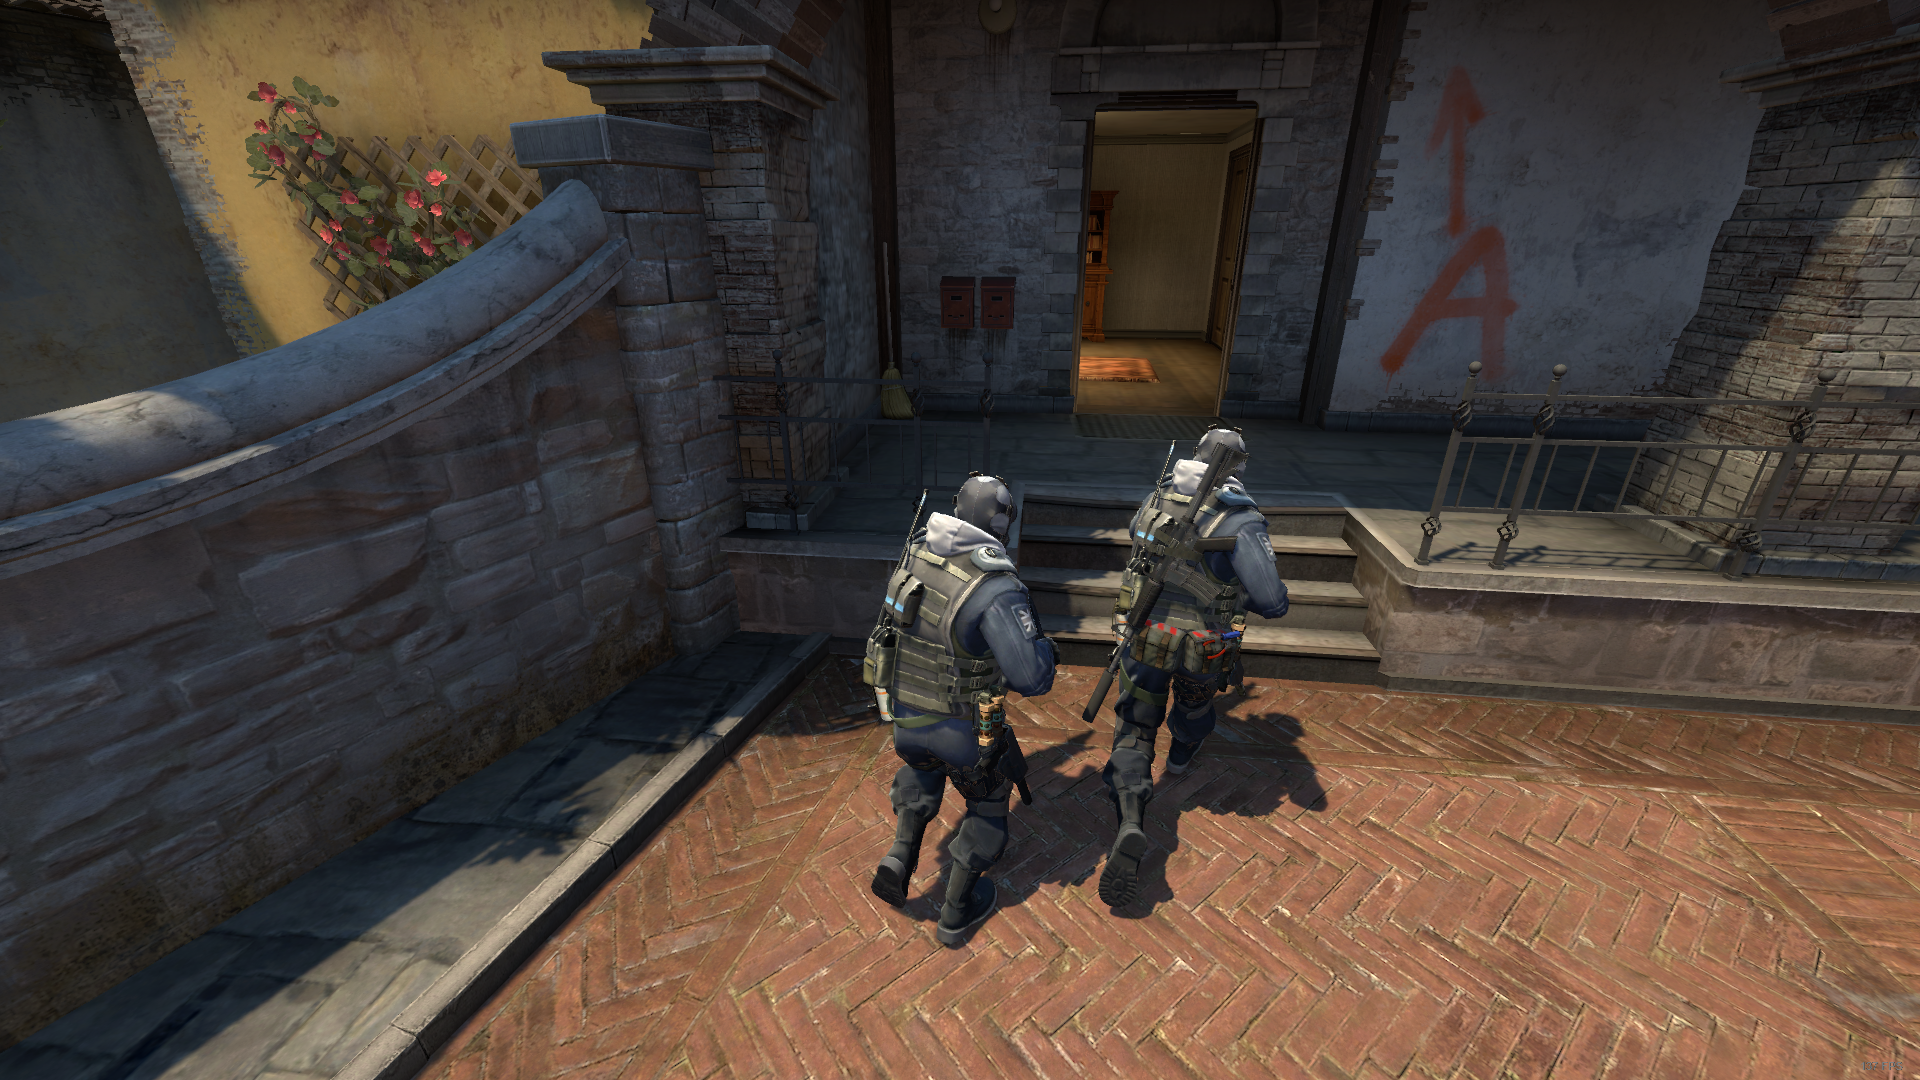ct: (853, 460, 1065, 953), (1112, 419, 1296, 911)
